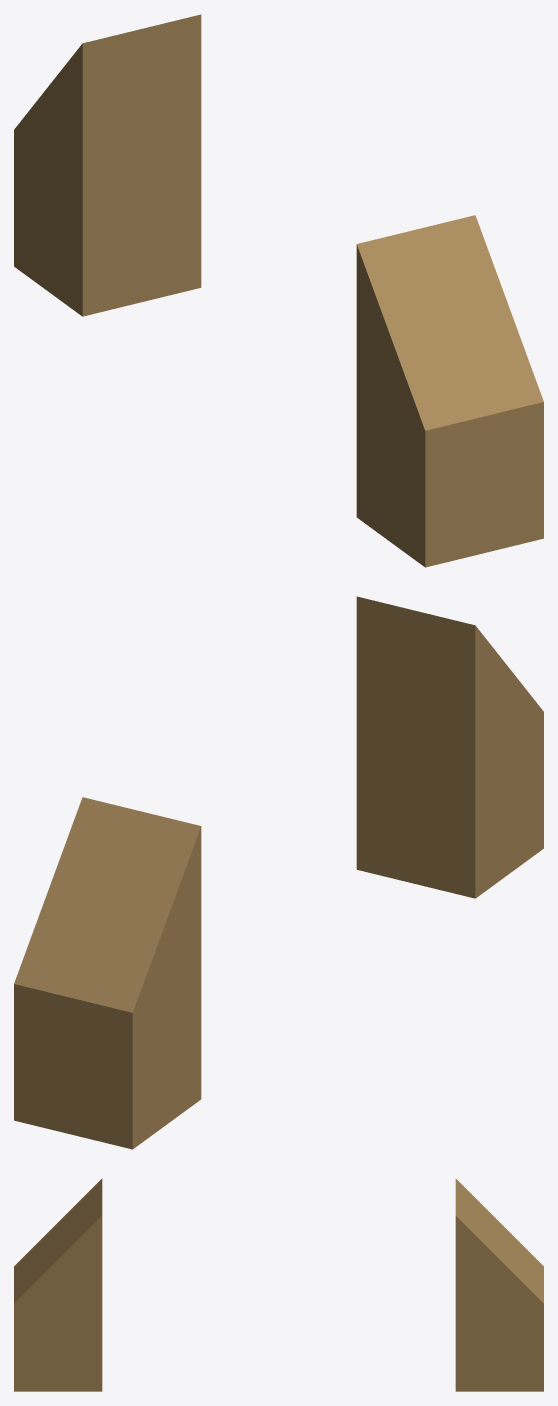
The model's file is Wood_Fence_Gate_01.fbx.
The picture shows the model from 3 angles, top to bottom: view 1: azimuth 30°, elevation 25°; view 2: azimuth 150°, elevation 25°; view 3: azimuth 270°, elevation 25°; orthographic projection. The views are drawn at different scales.
Visible parts, largest first — view 1: Mesh2_Wood_Fence_Gate Model, Mesh1_Wood_Fence_Gate Model; view 2: Mesh1_Wood_Fence_Gate Model, Mesh2_Wood_Fence_Gate Model; view 3: Mesh1_Wood_Fence_Gate Model, Mesh2_Wood_Fence_Gate Model.
Boxes of the visible parts, x1,y1,x2,y2 form: Mesh2_Wood_Fence_Gate Model: [356, 215, 543, 567]; Mesh1_Wood_Fence_Gate Model: [14, 14, 201, 316]; Mesh1_Wood_Fence_Gate Model: [14, 797, 201, 1149]; Mesh2_Wood_Fence_Gate Model: [356, 596, 543, 898]; Mesh1_Wood_Fence_Gate Model: [455, 1178, 543, 1391]; Mesh2_Wood_Fence_Gate Model: [14, 1178, 102, 1391].
Size of the model in its own units: 0.5 by 1.1 by 3.
